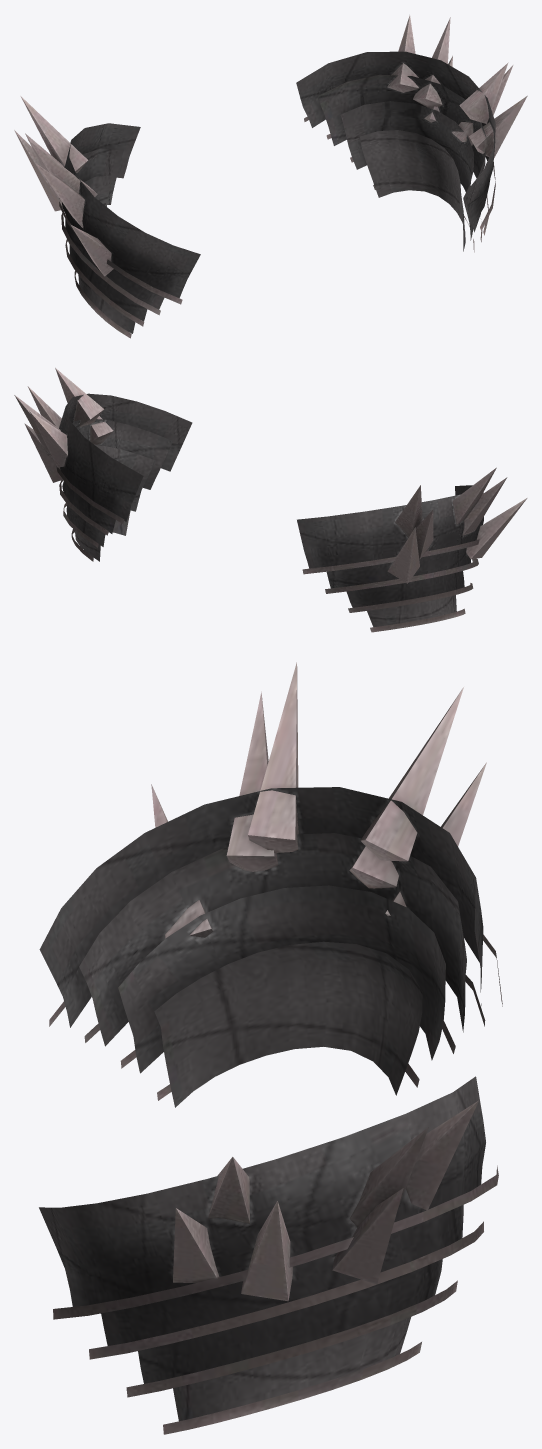
The model's file is Ombreiras_de_Placas_nivel100.glb.
3 renders of one model, top to bottom at view 1: azimuth 30°, elevation 25°; view 2: azimuth 150°, elevation 25°; view 3: azimuth 270°, elevation 25°, orthographic. The views are drawn at different scales.
Parts seen in each view (by area): view 1: ombreiras_de_placas_nivel100; view 2: ombreiras_de_placas_nivel100; view 3: ombreiras_de_placas_nivel100.
Boxes of the visible parts, left/top/right/bottom form: ombreiras_de_placas_nivel100: left=14, top=15, right=527, bottom=338; ombreiras_de_placas_nivel100: left=14, top=368, right=527, bottom=632; ombreiras_de_placas_nivel100: left=39, top=662, right=502, bottom=1434.
Bounding box in the file's own units: 0.777 × 0.3 × 0.3281.
Materials: 1 (1 with a texture image).
